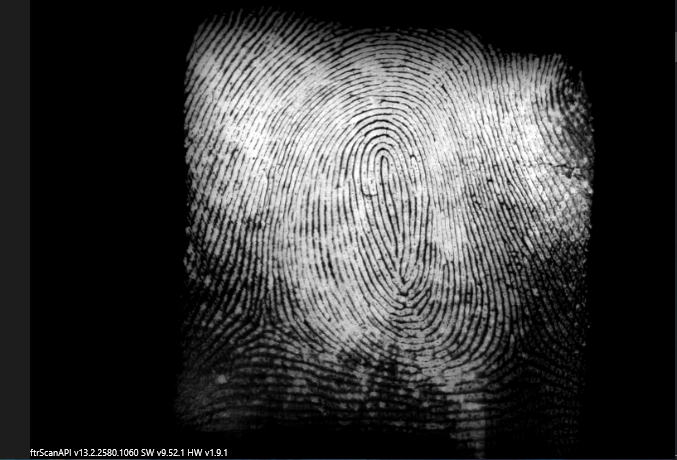deltas: (489, 320, 546, 379), (240, 298, 293, 349)
nucleo: (360, 133, 411, 196)
